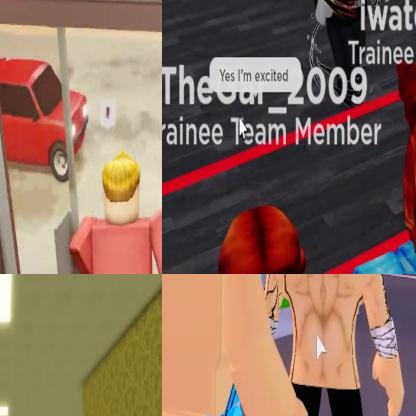Roblox-Avatar: (264, 275, 406, 416), (351, 46, 416, 274), (70, 151, 162, 274), (215, 205, 352, 274)
